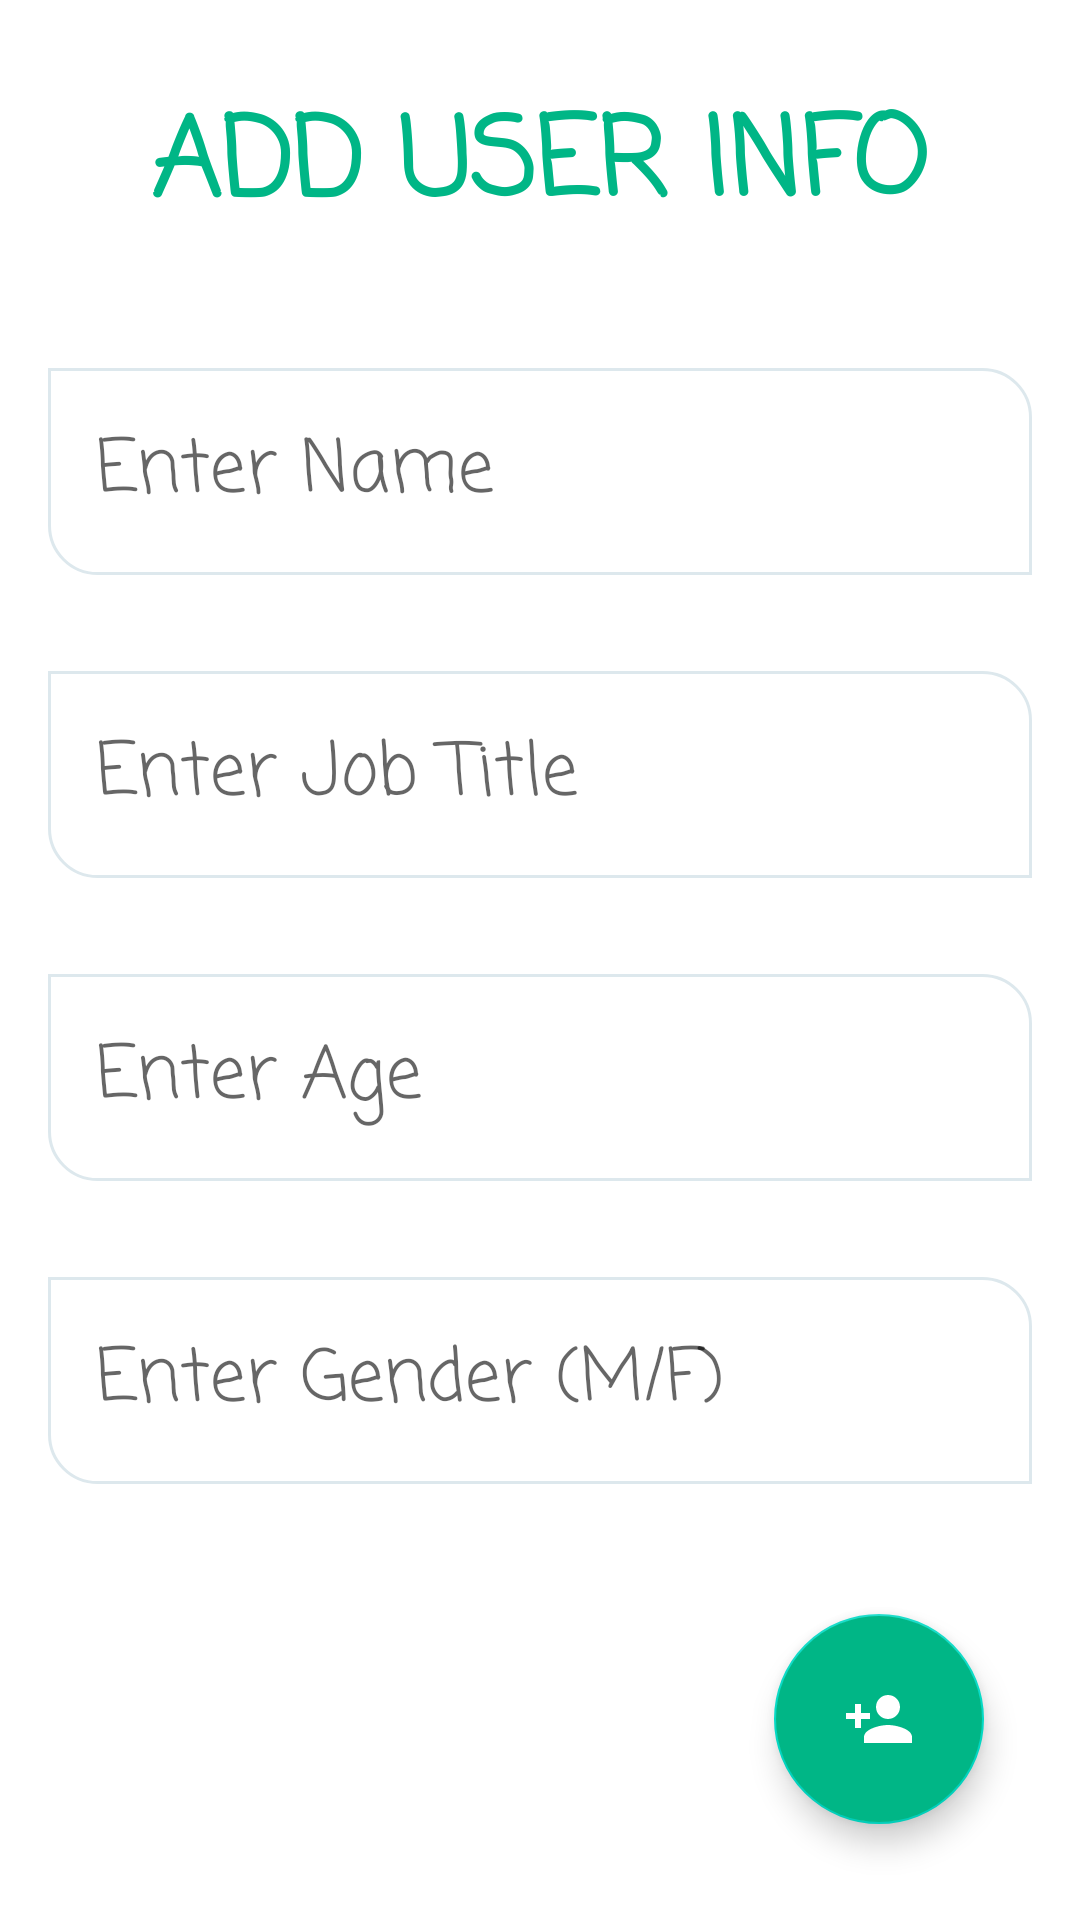

Point at icon controls on the screen. Image size 1080 × 1920, points as (x,y).
person add: (879,1719)
